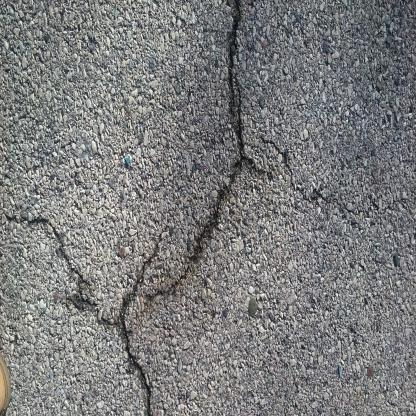Cracks: (150, 1, 273, 304), (1, 205, 163, 415)
